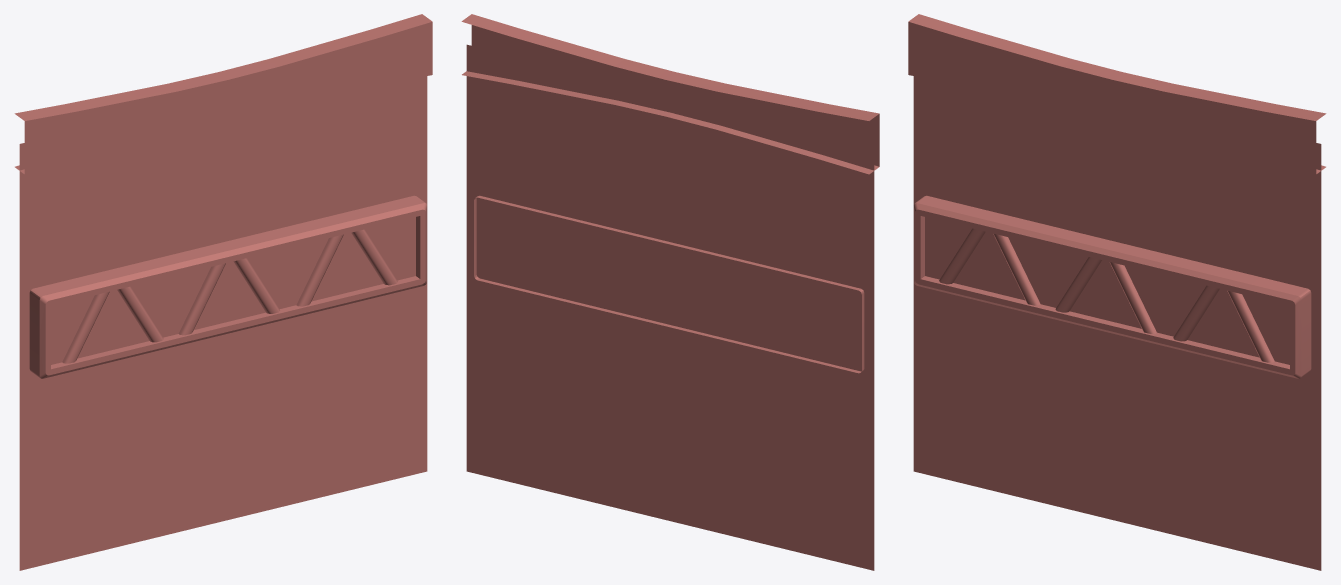
The model's file is Wall_Window.fbx.
The picture shows the model from 3 angles, left to right: view 1: azimuth 30°, elevation 25°; view 2: azimuth 150°, elevation 25°; view 3: azimuth 330°, elevation 25°; orthographic projection.
Parts seen in each view (by area): view 1: Wall_Window; view 2: Wall_Window; view 3: Wall_Window.
Boxes of the visible parts, <box> form: Wall_Window: <box>14,14,432,570</box>; Wall_Window: <box>461,14,879,570</box>; Wall_Window: <box>908,14,1326,570</box>.
Bounding box in the file's own units: 4 × 4.25 × 0.2966.
